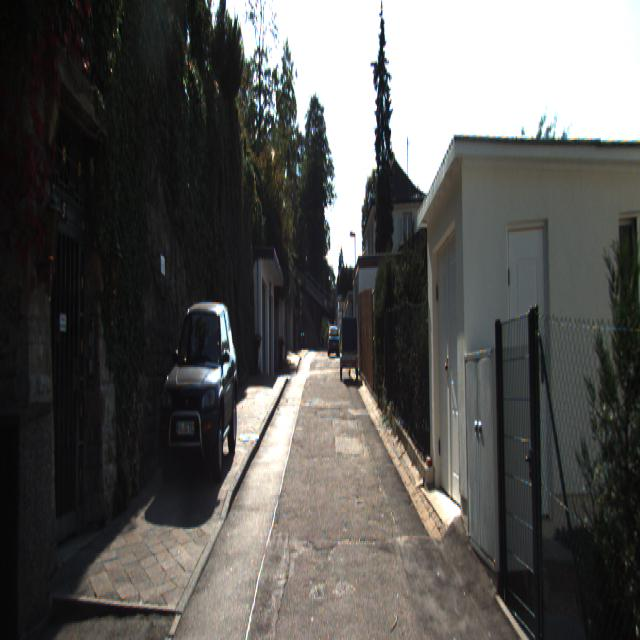Car: (154, 298, 238, 480), (340, 313, 359, 382)
